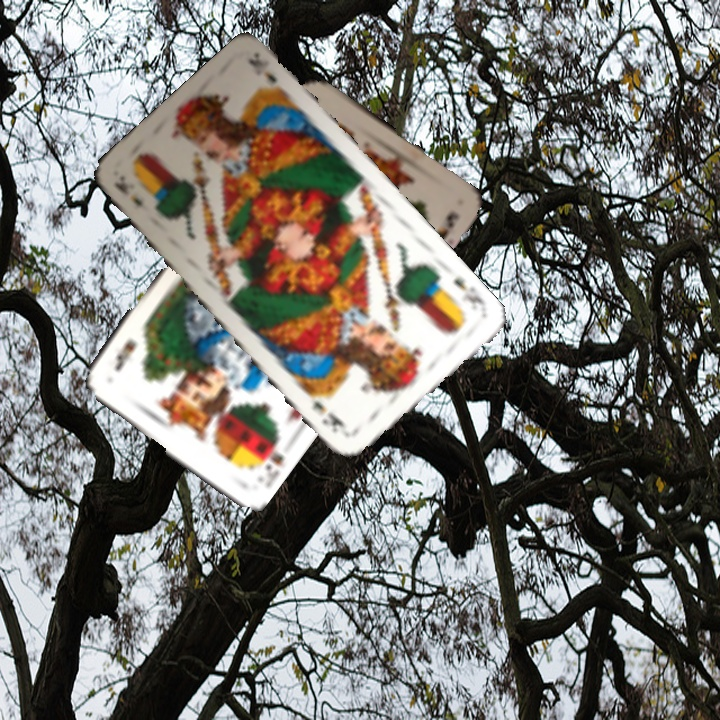EK: (449, 274, 489, 315), (110, 174, 146, 210)
SK: (257, 433, 287, 477)
